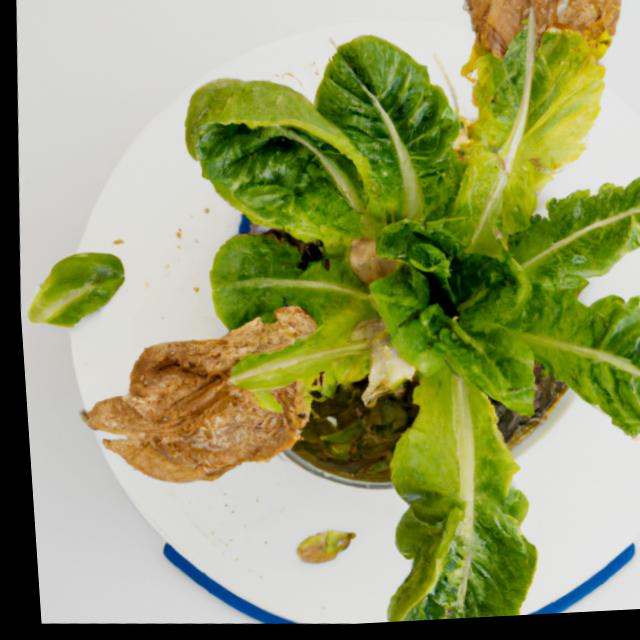-K: (36, 0, 640, 638)
